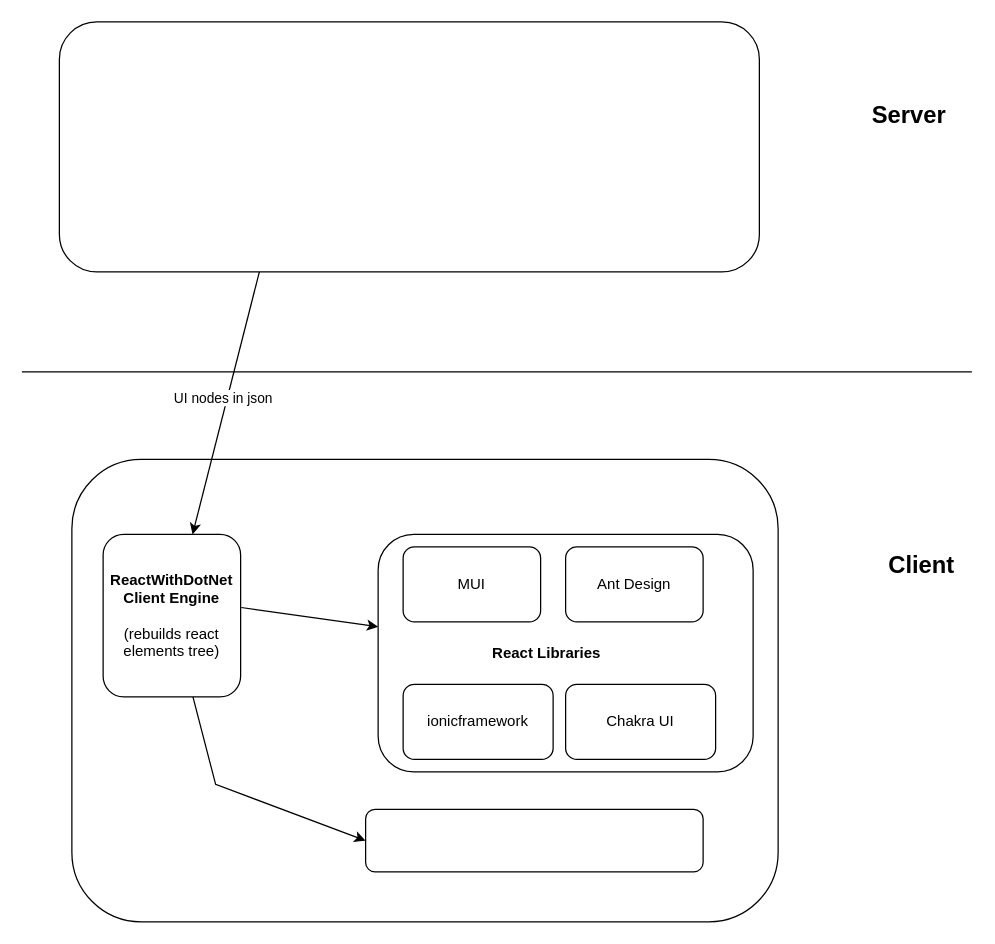
This 995x944 diagram has some shape labels left out. Each missing label, with the centre of its shape:
.Net Core Web App: [408,146]
React.js: [533,840]
